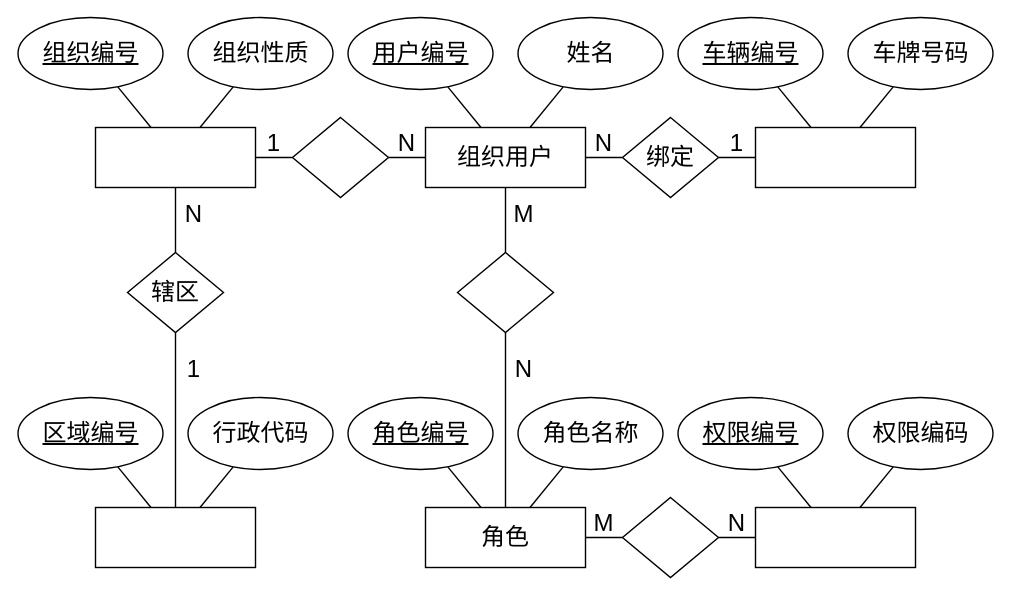
The diagram is 1011 pixels wide and 596 high, and some of its shapes have lost their labels. The shapes that lost their labels are listed below. From the top down, each one's centre as x and y in pixels, then its label:
At point (175, 157): "组织／部门".
At point (340, 157): "归属".
At point (835, 157): "车辆".
At point (505, 292): "授予".
At point (175, 537): "行政区域".
At point (670, 537): "授权".
At point (835, 537): "权限".
